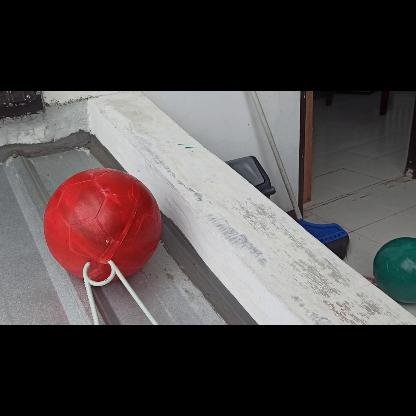red_ball: (43, 166, 160, 282)
